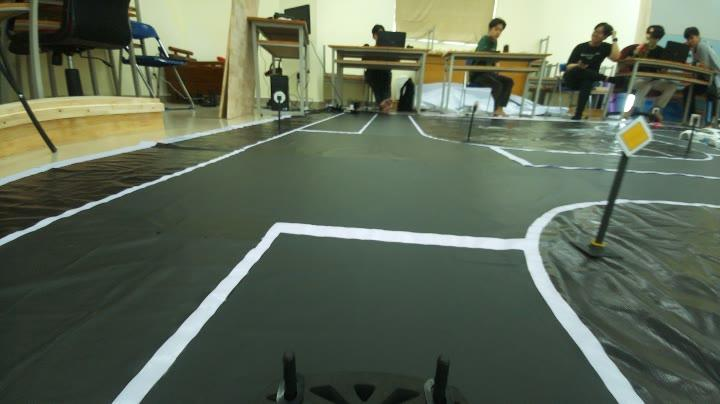priority: (612, 114, 656, 156)
